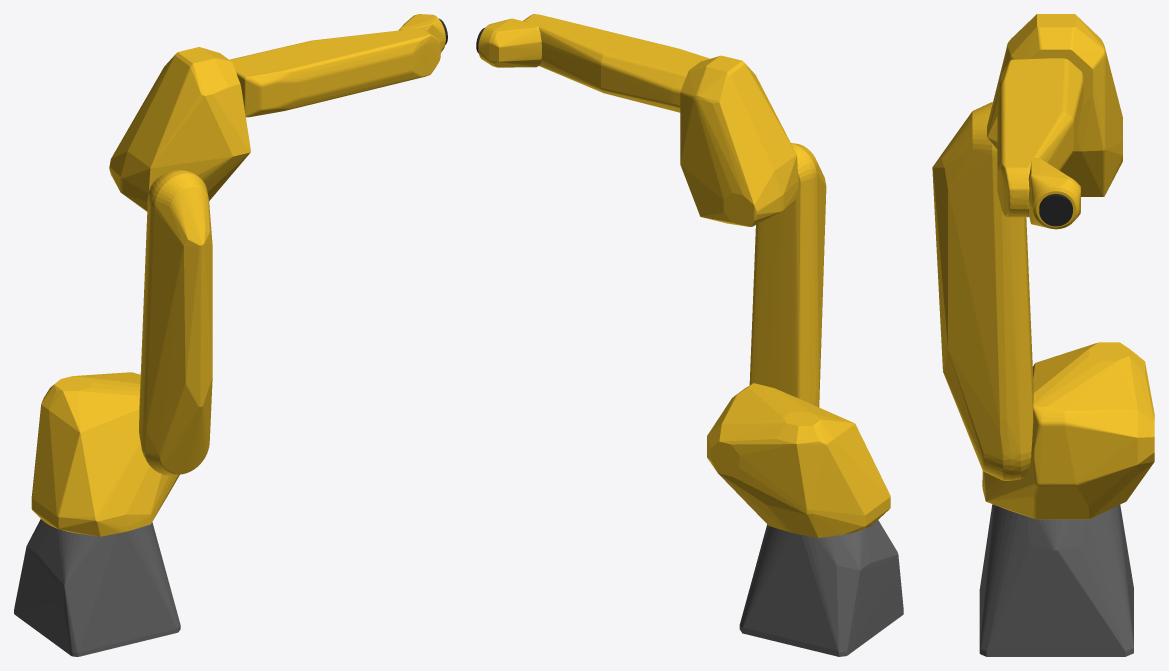
File: fanuc_m10ia.dae
The picture shows the model from 3 angles, left to right: view 1: azimuth 30°, elevation 25°; view 2: azimuth 150°, elevation 25°; view 3: azimuth 270°, elevation 25°; orthographic projection. The views are drawn at different scales.
Parts seen in each view (by area): view 1: link_2, link_1, base_link, link_3, link_4, link_5; view 2: link_1, base_link, link_3, link_2, link_4, link_5; view 3: link_2, base_link, link_1, link_4, link_3, link_5, link_6.
Part boxes in pixels (<box>): link_2: <box>139,170,212,475</box>; link_1: <box>31,372,179,536</box>; base_link: <box>14,519,180,656</box>; link_3: <box>109,47,250,211</box>; link_4: <box>229,28,440,117</box>; link_5: <box>398,14,445,52</box>; link_1: <box>707,383,890,537</box>; base_link: <box>739,520,903,656</box>; link_3: <box>680,55,798,226</box>; link_2: <box>749,143,826,407</box>; link_4: <box>523,14,709,112</box>; link_5: <box>478,18,541,67</box>; link_2: <box>932,102,1033,480</box>; base_link: <box>979,504,1133,656</box>; link_1: <box>982,342,1154,519</box>; link_4: <box>997,58,1083,217</box>; link_3: <box>987,14,1122,196</box>; link_5: <box>1028,158,1080,229</box>; link_6: <box>1039,194,1072,226</box>.
Size of the model in its own units: 1.03 by 0.4075 by 1.34.
